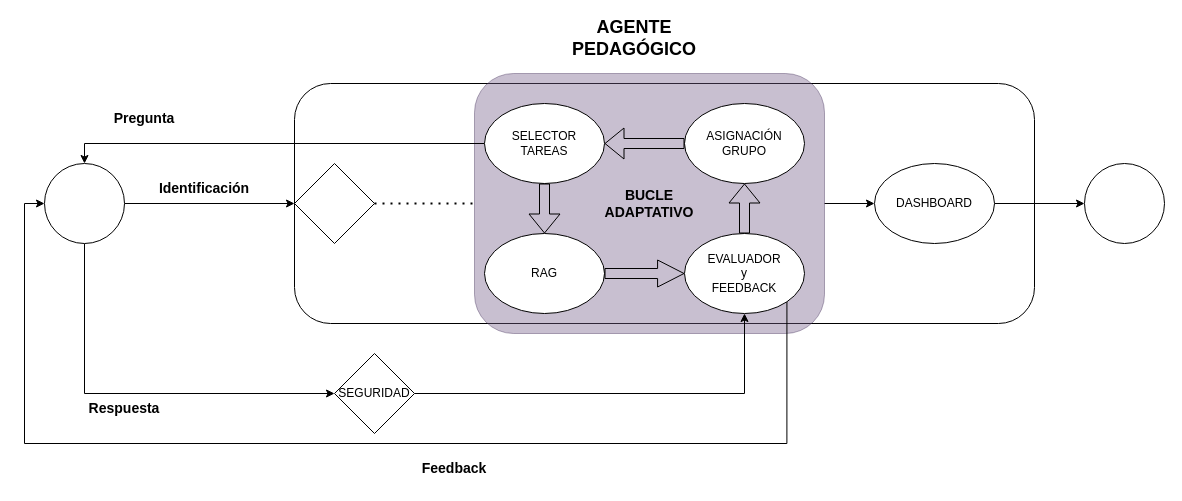
The diagram is 1182 pixels wide and 501 high, and some of its shapes have lost their labels. The shapes that lost their labels are listed below. From the top down, each one's centre as x and y in pixels, then its label:
At point (84, 203): "ALUMNOS".
At point (334, 203): "Eval Inicial".
At point (1124, 203): "PROFESOR".
